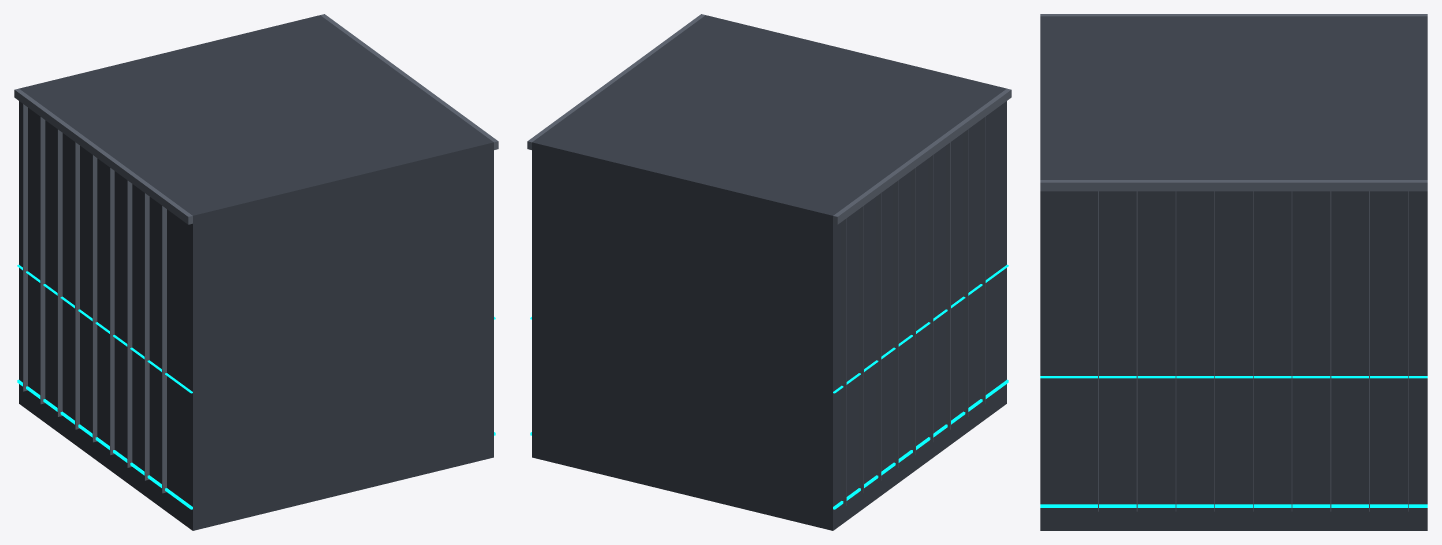
The model's file is wall_x.glb.
3 views of the same model, side by side, from view 1: azimuth 30°, elevation 25°; view 2: azimuth 150°, elevation 25°; view 3: azimuth 270°, elevation 25° (orthographic). The views are drawn at different scales.
Parts seen in each view (by area): view 1: wall_x; view 2: wall_x; view 3: wall_x.
Boxes of the visible parts, box(x1,y1,x2,y2) form: wall_x: box(14, 14, 498, 530); wall_x: box(527, 14, 1011, 530); wall_x: box(1040, 14, 1427, 530).
Size of the model in its own units: 2.06 by 2 by 2.
